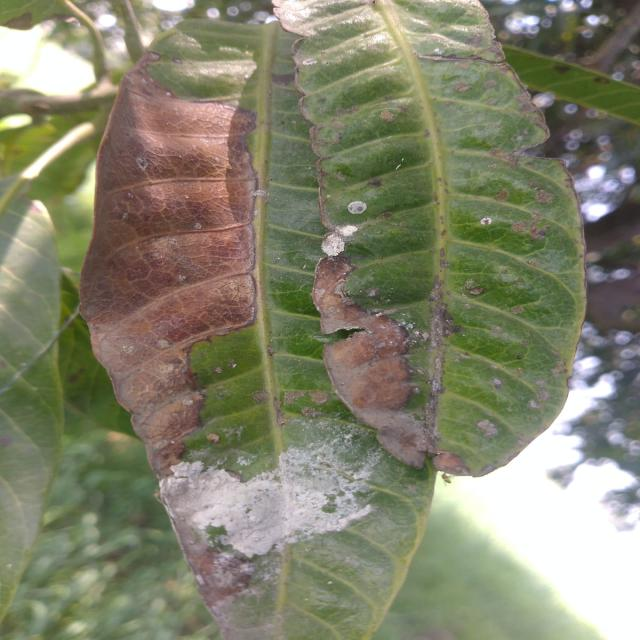Powdery Mildew: (179, 450, 360, 559), (321, 220, 371, 257)
